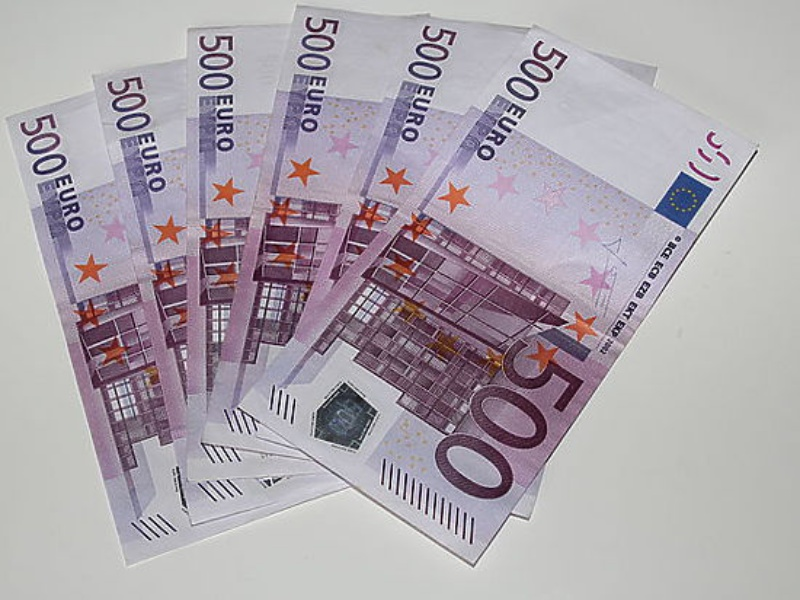cash: (2, 6, 759, 565)
